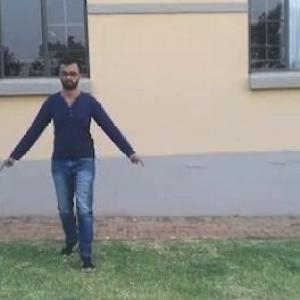land: (0, 59, 147, 273)
